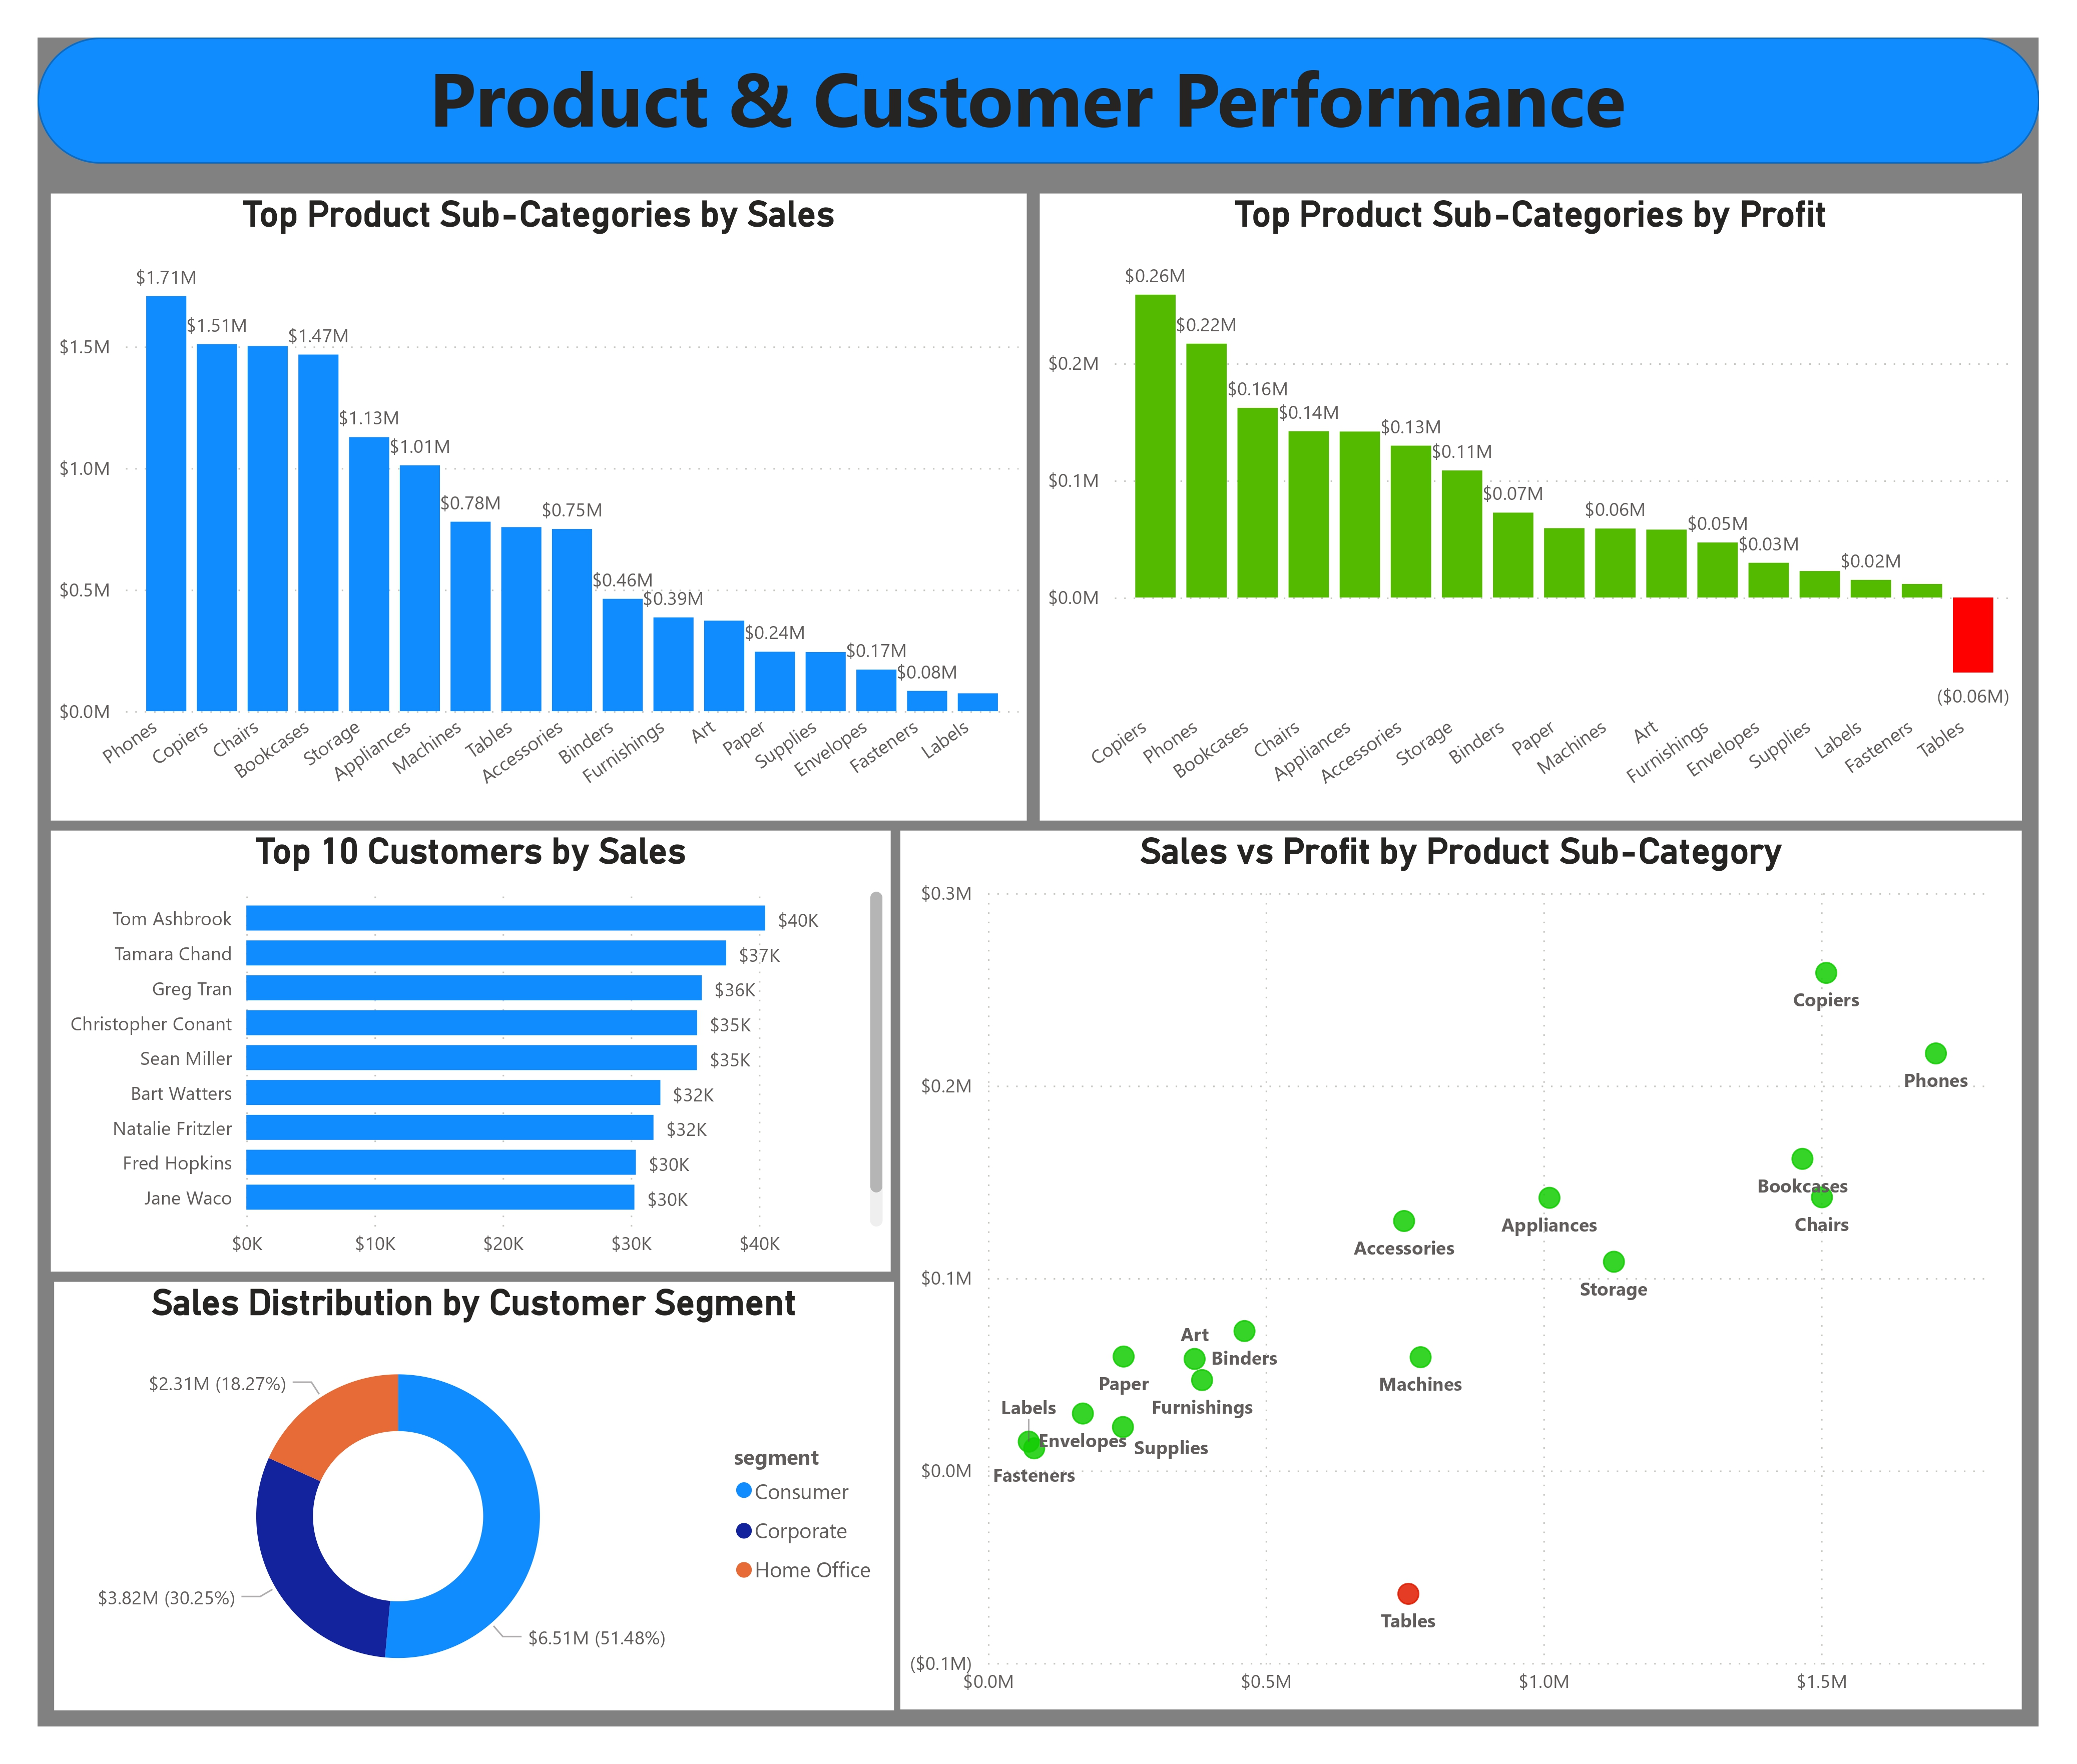

This screenshot's page, from the dashboard's own definition file:
{"tool":"powerbi","page":{"name":"Products","canvas":[1280,1080],"ordinal":1},"visuals":[{"type":"shape","box":[0,0,1280,80.6],"z":0},{"type":"textbox","box":[95.7,0,1075.1,80.6],"z":1000},{"type":"clusteredColumnChart","title":"Top Product Sub-Categories by Sales","fields":{"Category":["global-superstore-clean.sub_category"],"Y":["Sum(global-superstore-clean.sales)"]},"box":[8.5,99.7,623.8,401],"z":2000},{"type":"clusteredColumnChart","title":"Top Product Sub-Categories by Profit","fields":{"Category":["global-superstore-clean.sub_category"],"Y":["Sum(global-superstore-clean.Total Profit)"]},"box":[640.8,99.7,628.1,401],"z":3000},{"type":"donutChart","title":"Sales Distribution by Customer Segment","fields":{"Category":["global-superstore-clean.segment"],"Y":["Sum(global-superstore-clean.sales)"]},"box":[10.6,795.7,536.8,273.7],"z":4000},{"type":"clusteredBarChart","title":"Top 10 Customers by Sales","fields":{"Category":["global-superstore-clean.customer_name"],"Y":["Sum(global-superstore-clean.sales)"]},"box":[8.5,507.1,536.8,282.2],"z":5000},{"type":"scatterChart","title":"Sales vs Profit by Product Sub-Category","fields":{"Category":["global-superstore-clean.sub_category"],"X":["Sum(global-superstore-clean.sales)"],"Y":["Sum(global-superstore-clean.profit)"]},"box":[551.7,507.1,717.2,562.3],"z":6000}]}

Visuals, with their boxes on the page's 1280x1080 design canvas (x1, y1, x2, y2). These are canvas units, not pixel positions in the 2077x1764 screenshot, which may show the page scaled, cropped or inside an application window:
shape: bbox=[0, 0, 1280, 81]
textbox: bbox=[96, 0, 1171, 81]
"Top Product Sub-Categories by Sales" clusteredColumnChart: bbox=[8, 100, 632, 501]
"Top Product Sub-Categories by Profit" clusteredColumnChart: bbox=[641, 100, 1269, 501]
"Sales Distribution by Customer Segment" donutChart: bbox=[11, 796, 547, 1069]
"Top 10 Customers by Sales" clusteredBarChart: bbox=[8, 507, 545, 789]
"Sales vs Profit by Product Sub-Category" scatterChart: bbox=[552, 507, 1269, 1069]
